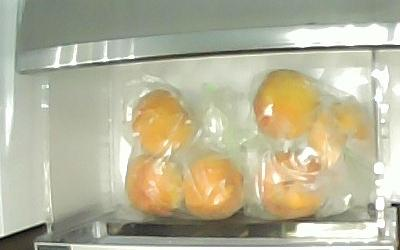peach_vinyl: (253, 151, 330, 216), (251, 70, 320, 138), (131, 88, 192, 157), (308, 105, 368, 170), (124, 155, 184, 217), (183, 158, 243, 219)
